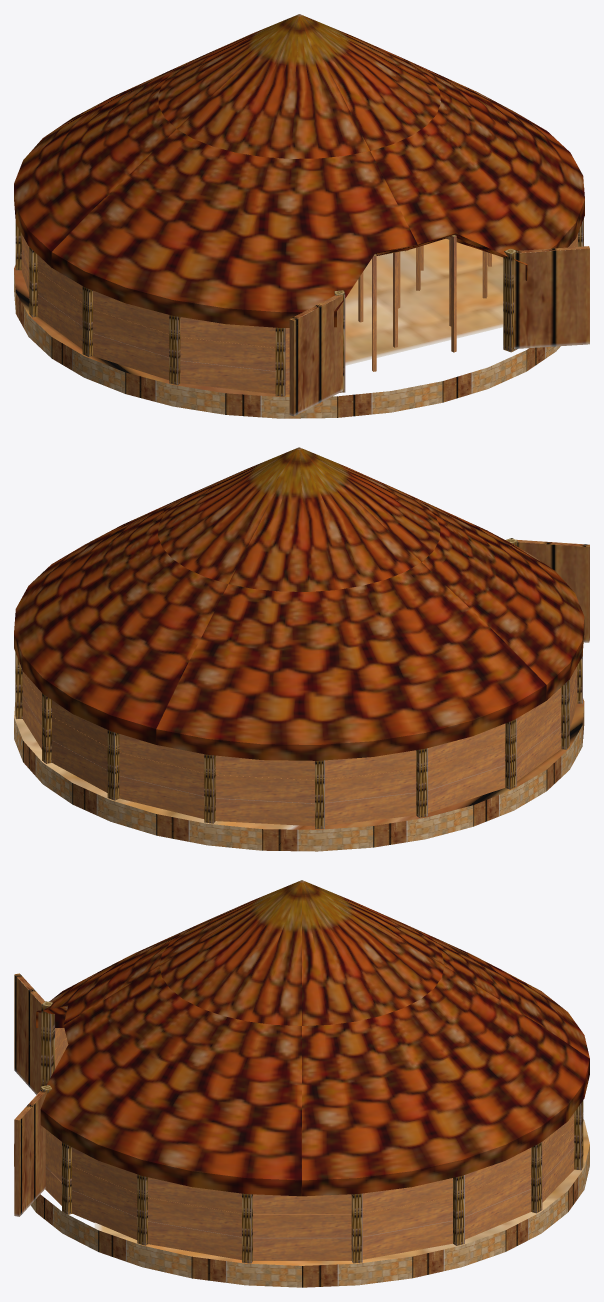
Rendered from promontory.dae.
The picture shows the model from 3 angles, top to bottom: view 1: azimuth 30°, elevation 25°; view 2: azimuth 150°, elevation 25°; view 3: azimuth 270°, elevation 25°; orthographic projection.
Visible parts, largest first — view 1: promontory; view 2: promontory; view 3: promontory.
Boxes of the visible parts, left/top/right/bottom form: promontory: left=14, top=14, right=589, bottom=418; promontory: left=14, top=447, right=589, bottom=851; promontory: left=14, top=880, right=589, bottom=1287.
Bounding box in the file's own units: 28.01 × 28.01 × 15.3.
